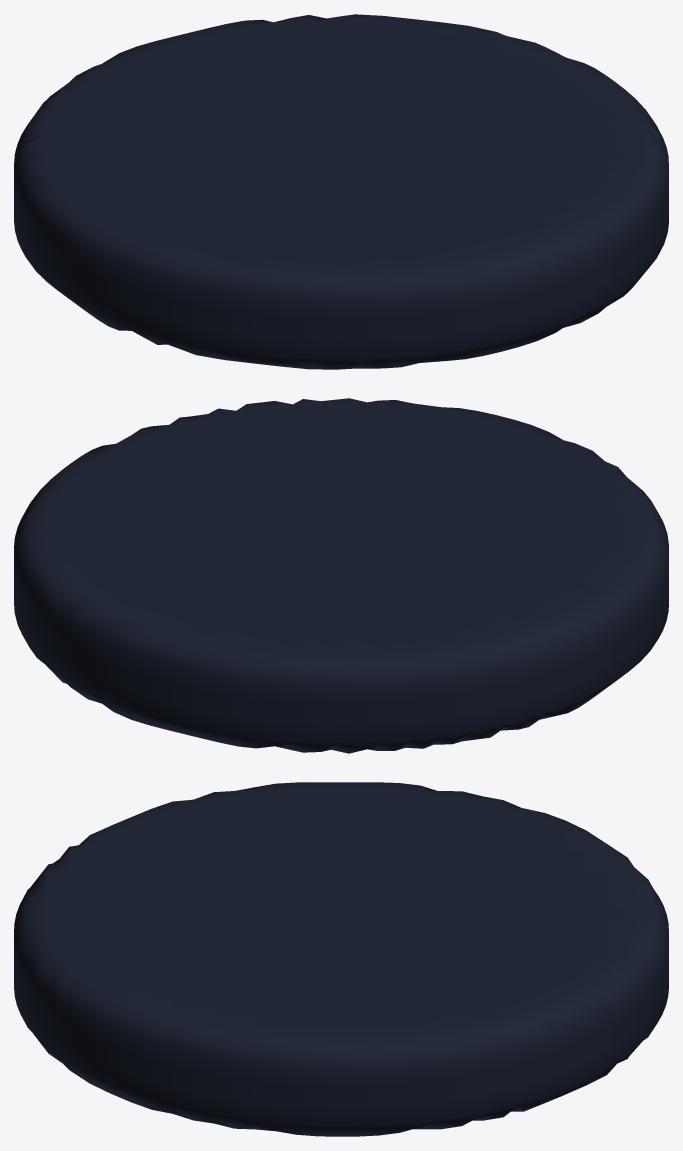
Rendered from 104_wearer_facing_camera_optical_cover.glb.
3 renders of one model, top to bottom at view 1: azimuth 30°, elevation 25°; view 2: azimuth 150°, elevation 25°; view 3: azimuth 270°, elevation 25°, orthographic.
Visible parts, largest first — view 1: 104 | Wearer-Facing Camera Optical Cover; view 2: 104 | Wearer-Facing Camera Optical Cover; view 3: 104 | Wearer-Facing Camera Optical Cover.
Boxes of the visible parts, x1=… form: 104 | Wearer-Facing Camera Optical Cover: x1=14, y1=14, x2=668, y2=369; 104 | Wearer-Facing Camera Optical Cover: x1=14, y1=398, x2=668, y2=753; 104 | Wearer-Facing Camera Optical Cover: x1=14, y1=782, x2=668, y2=1136.
Size of the model in its own units: 0.0038 by 0.0006 by 0.0038.
